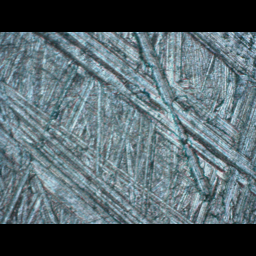d: (19, 32, 255, 178), (0, 77, 191, 224), (185, 32, 256, 88)
